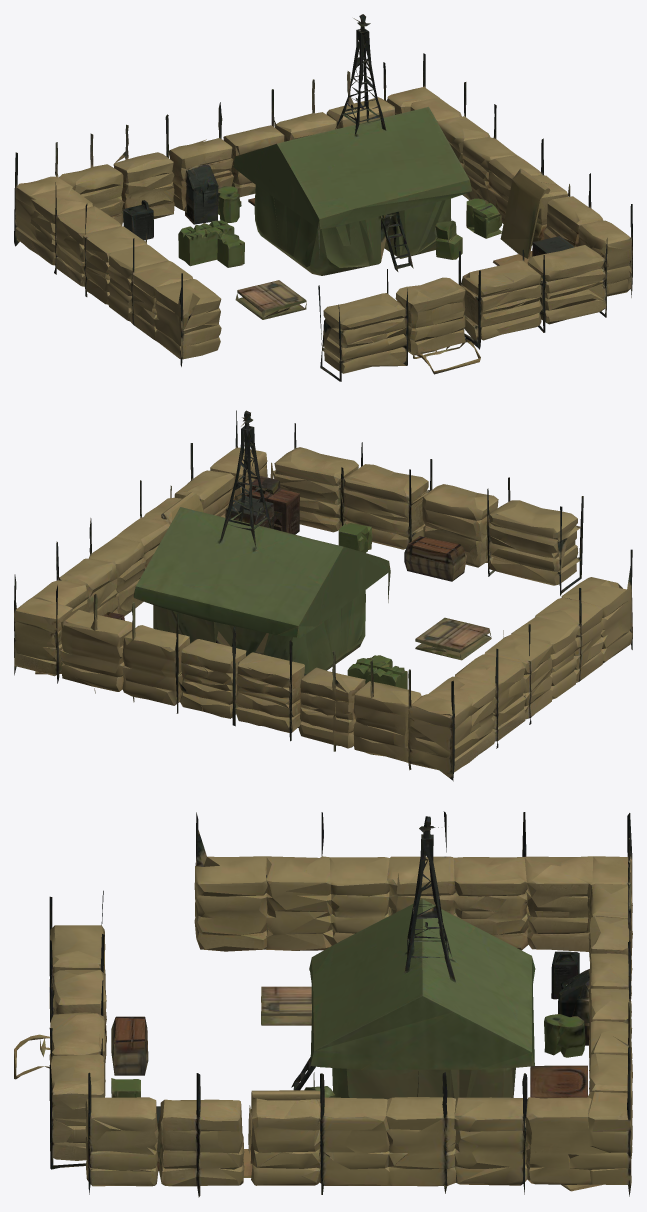
Rendered from camp.glb.
3 views of the same model, one above another, from view 1: azimuth 30°, elevation 25°; view 2: azimuth 150°, elevation 25°; view 3: azimuth 270°, elevation 25° (orthographic). The views are drawn at different scales.
Visible parts, largest first — view 1: wall; view 2: wall; view 3: wall.
Boxes of the visible parts, left/top/right/bottom form: wall: left=14, top=14, right=632, bottom=381; wall: left=14, top=410, right=632, bottom=781; wall: left=14, top=811, right=632, bottom=1197.
Size of the model in its own units: 7.5 by 3.91 by 7.48.
1 material, 1 textured.
